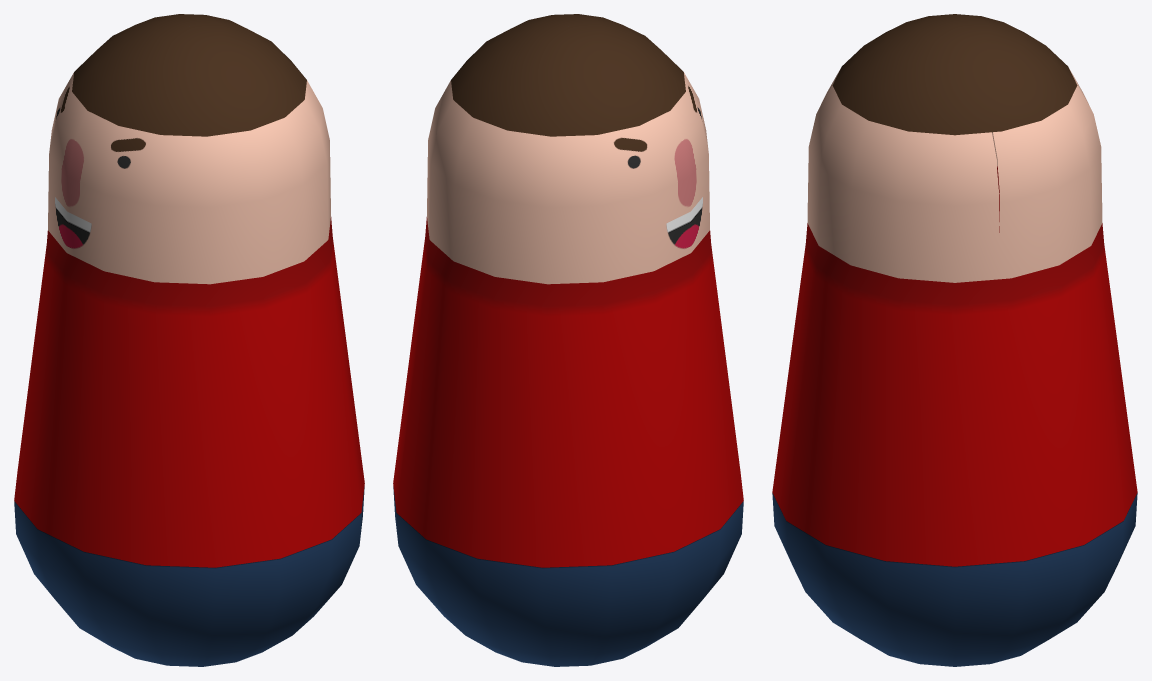
Rendered from Character_v2.fbx.
3 renders of one model, left to right at view 1: azimuth 30°, elevation 25°; view 2: azimuth 150°, elevation 25°; view 3: azimuth 270°, elevation 25°, orthographic.
Visible parts, largest first — view 1: Sphere.001; view 2: Sphere.001; view 3: Sphere.001.
Boxes of the visible parts, <box> form: Sphere.001: <box>14,14,364,666</box>; Sphere.001: <box>393,14,743,666</box>; Sphere.001: <box>772,14,1137,666</box>.
Size of the model in its own units: 188 by 369 by 195.
